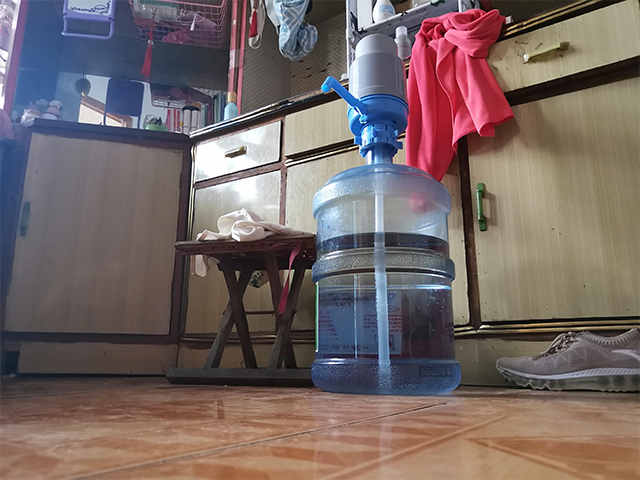cabinet: (189, 1, 640, 389), (1, 118, 185, 375)
stool: (163, 233, 319, 389)
